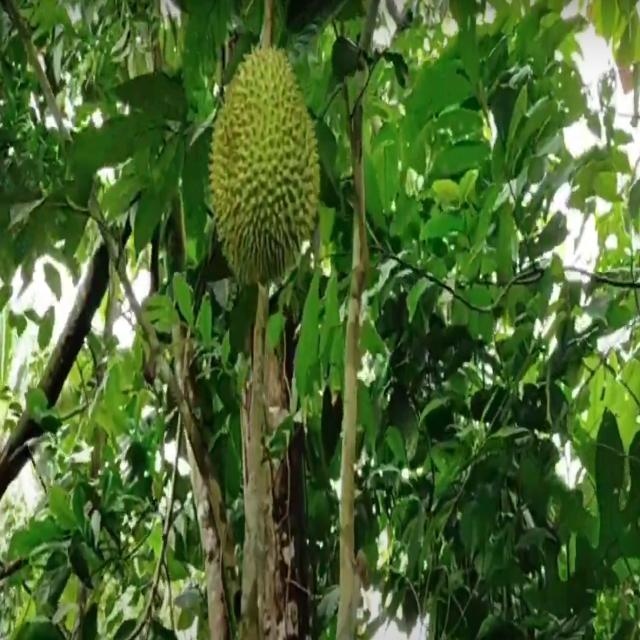immature: (207, 41, 320, 288)
